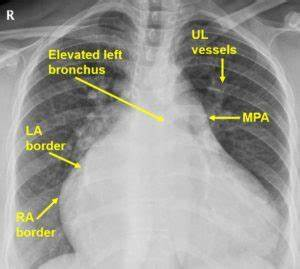telestration: (74, 74, 160, 119), (47, 47, 124, 76), (190, 26, 237, 55), (18, 126, 69, 150), (13, 212, 58, 238), (47, 149, 81, 169), (241, 108, 272, 127), (37, 196, 56, 217), (209, 114, 241, 123), (217, 58, 227, 83)
